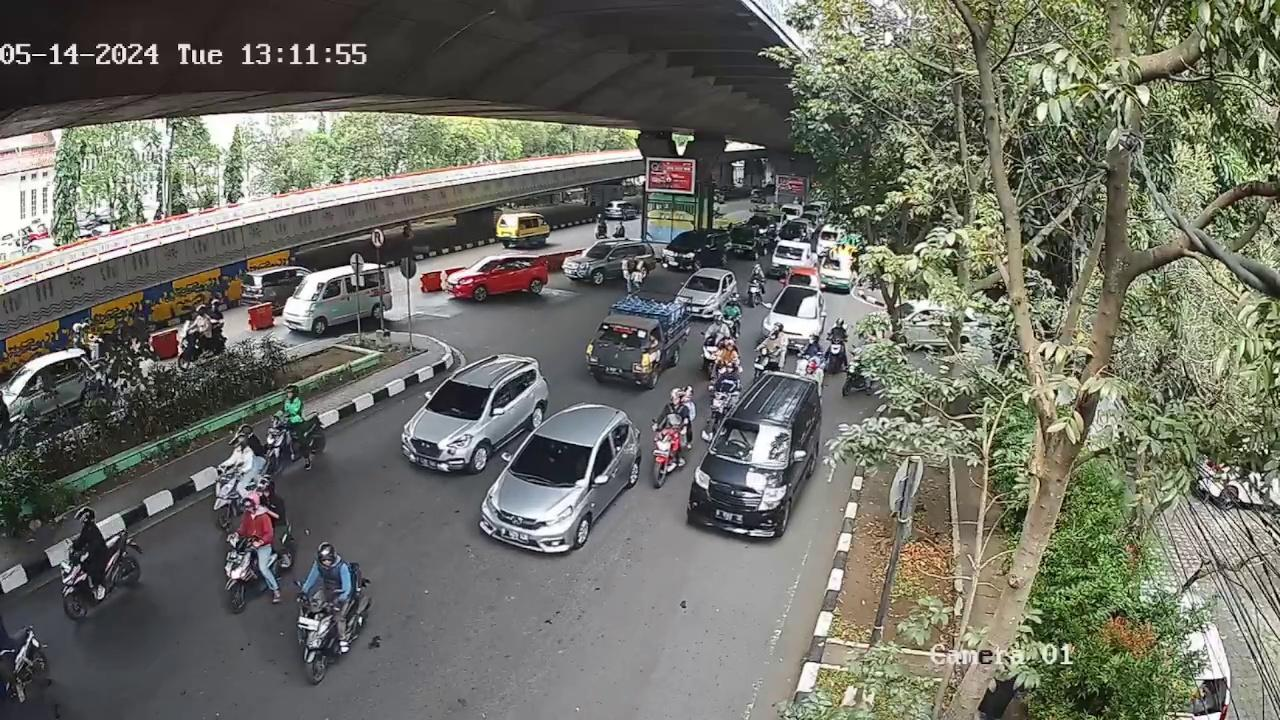pakai: (729, 427, 758, 455)
windshield: (506, 433, 600, 485), (707, 417, 793, 467), (426, 379, 489, 417)
